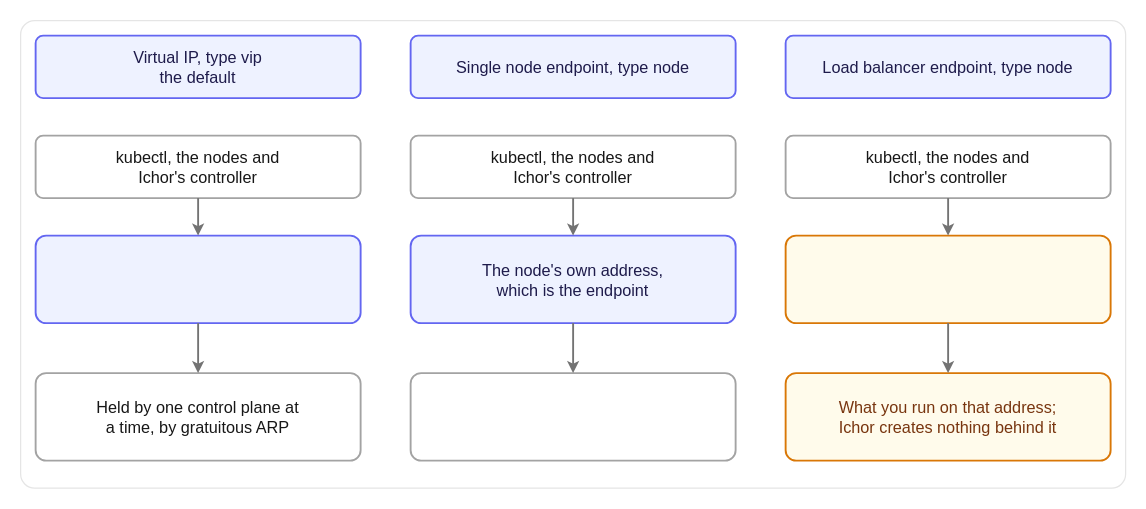
The diagram is 1146 pixels wide and 509 high, and some of its shapes have lost their labels. The shapes that lost their labels are listed below. From the top down, each one's centre as x and y in pixels, then its label:
At (197,279): "One VIP on the layer-2 segment, moved between control planes".
At (947,279): "A load balancer or DNS name, the address you give Ichor".
At (572,416): "That control plane answers on the address".
